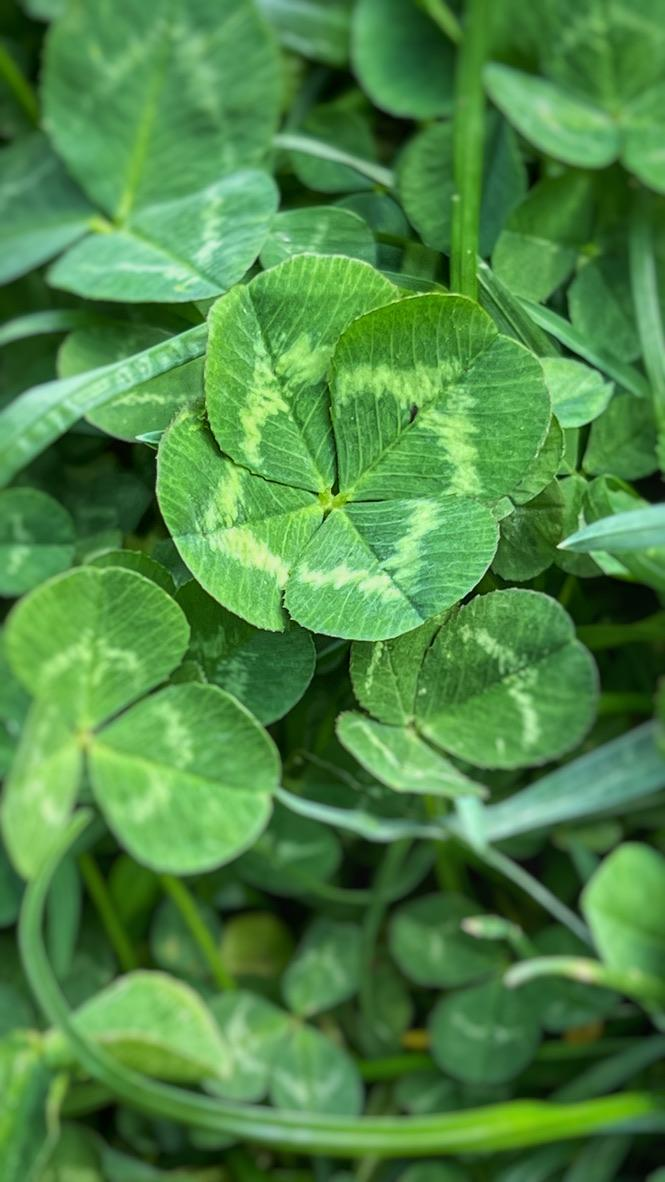4-Leaf-Clovers: (140, 196, 356, 910)
